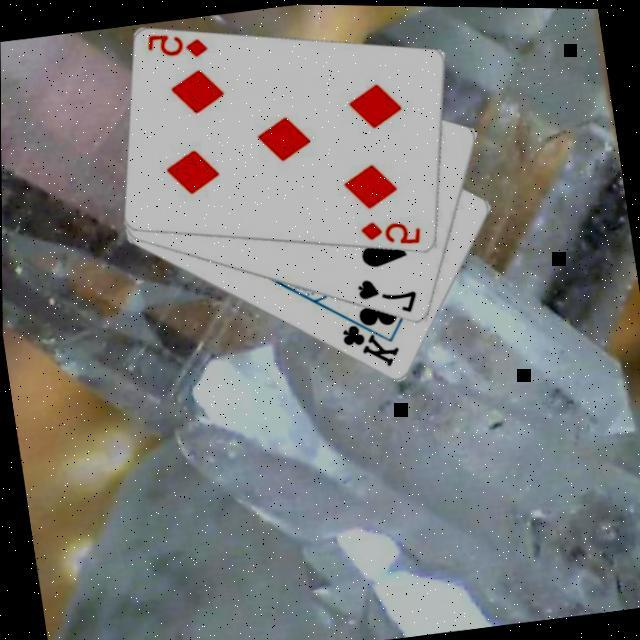5D: (144, 26, 214, 68), (358, 213, 426, 255)
7S: (354, 271, 422, 323)
KC: (338, 306, 406, 378)
